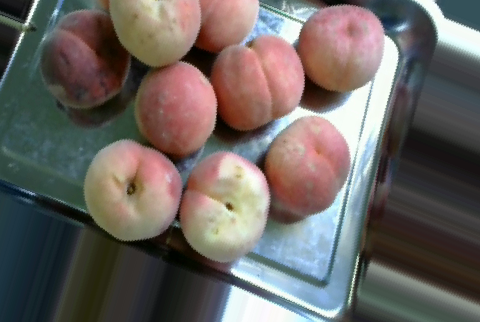Peach: (175, 151, 269, 265), (82, 139, 182, 243), (38, 6, 130, 108), (266, 115, 350, 215), (212, 36, 302, 129), (295, 4, 385, 92), (133, 61, 216, 156), (108, 0, 205, 64), (189, 0, 260, 50)
